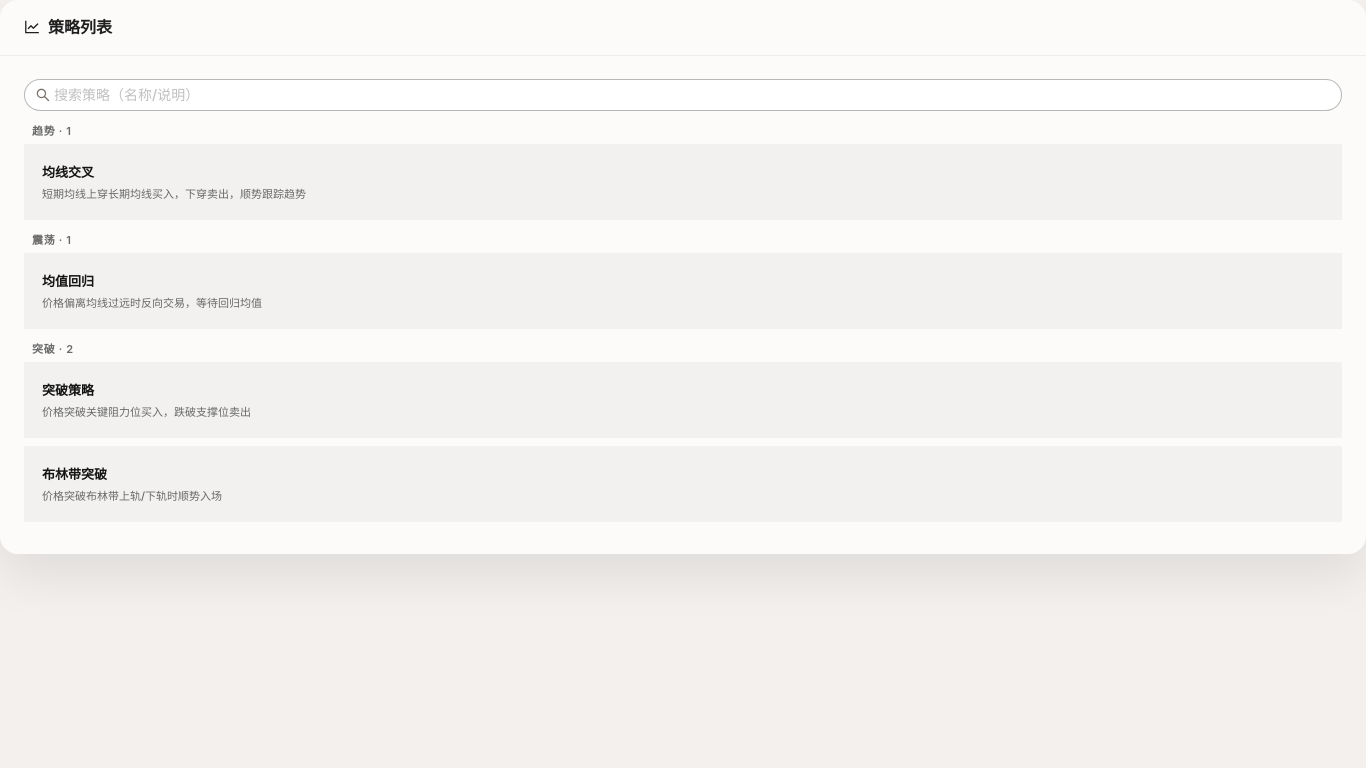
Scenario: StrategyList › 搜索可按中文名过滤策略
Step 1. Type "布林" into the field labelled "搜索策略" → (684, 95), box [54,84,1314,106]
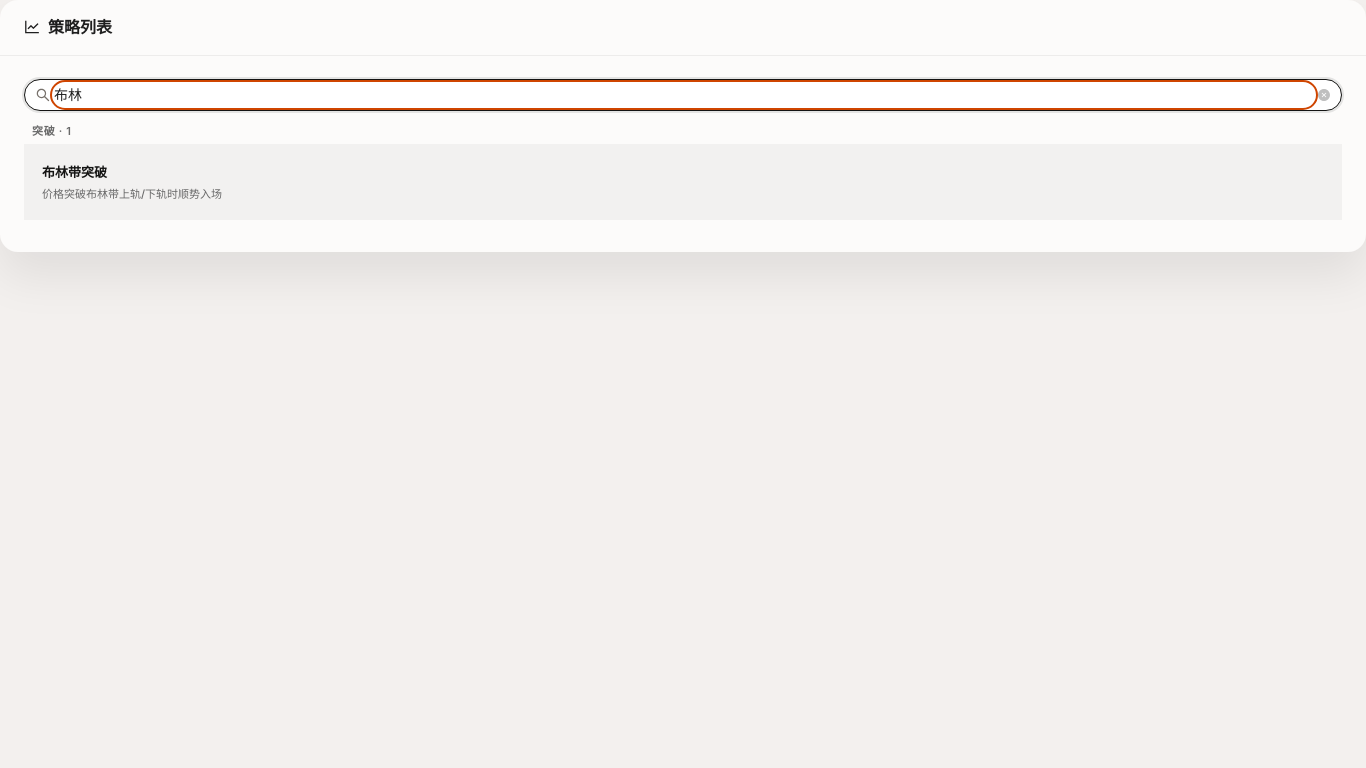
Expected: the text "布林带突破" is shown, [42,164,107,180]
Expected: the button "均线交叉" is gone
Expected: the button "均值回归" is gone
